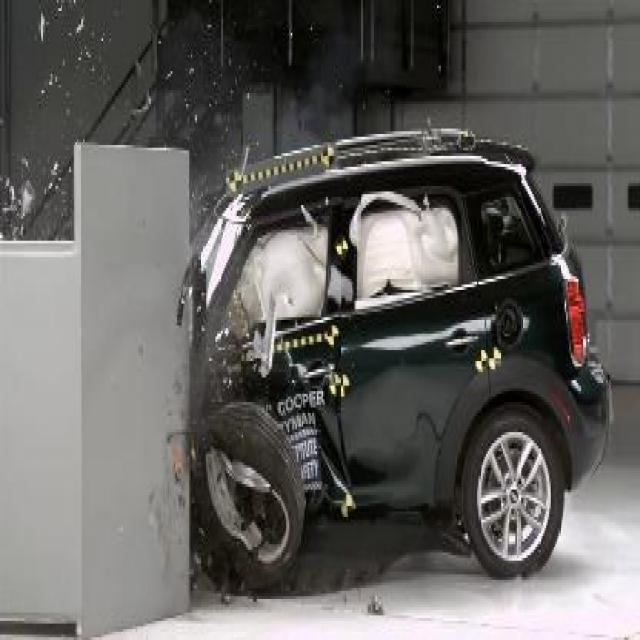accident: (34, 120, 617, 610)
